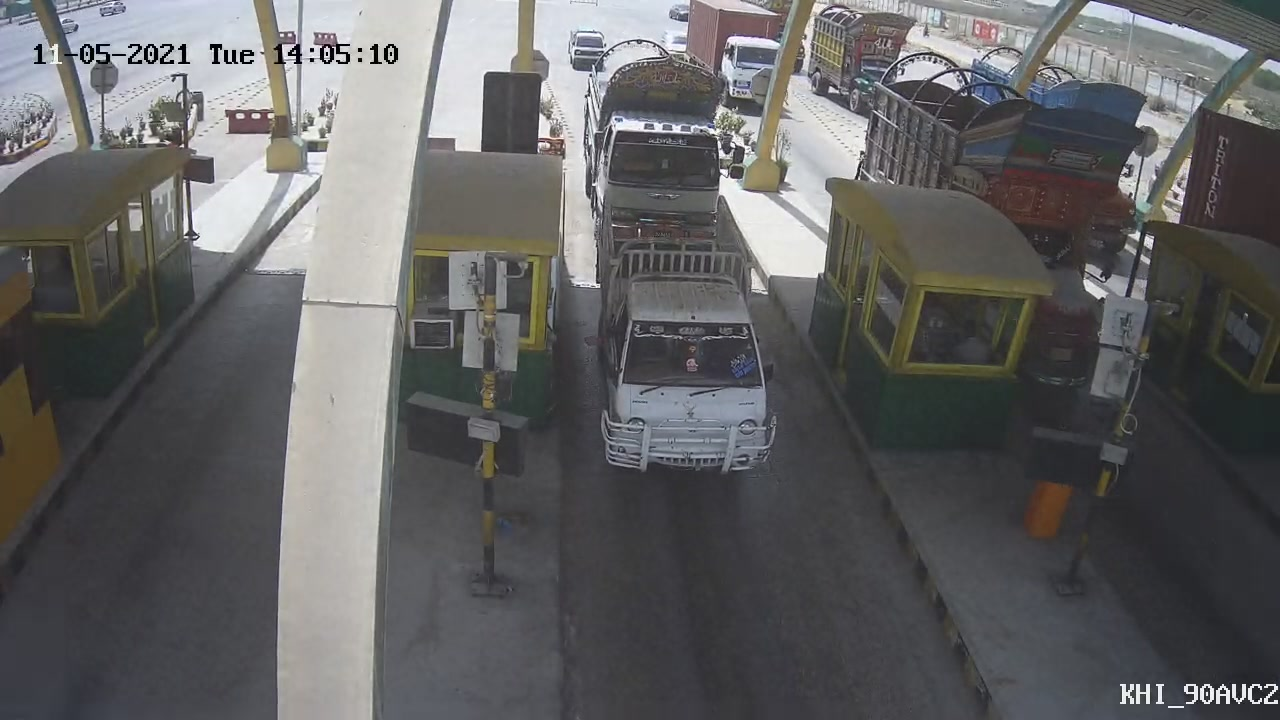F2: (583, 212, 786, 481)
